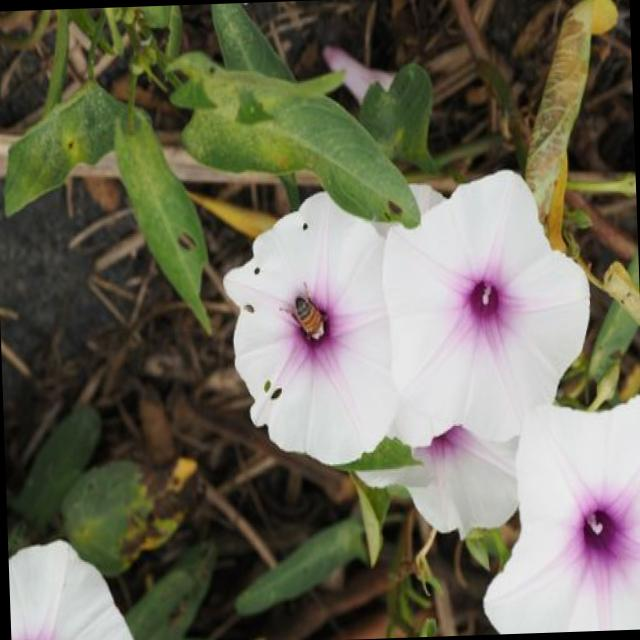ipomoea: (375, 161, 597, 448), (217, 185, 402, 472), (472, 386, 640, 634), (351, 414, 524, 546), (7, 531, 139, 640)
